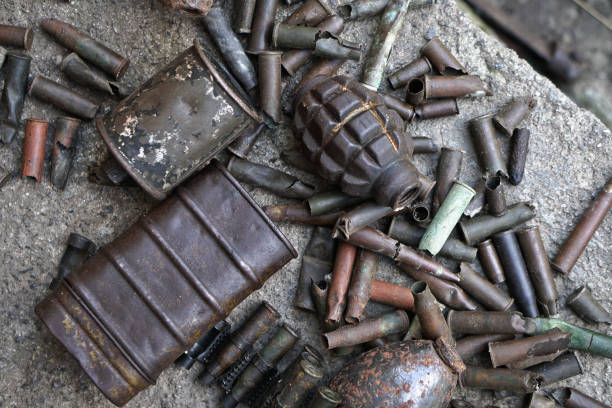e1: (292, 73, 422, 206)
